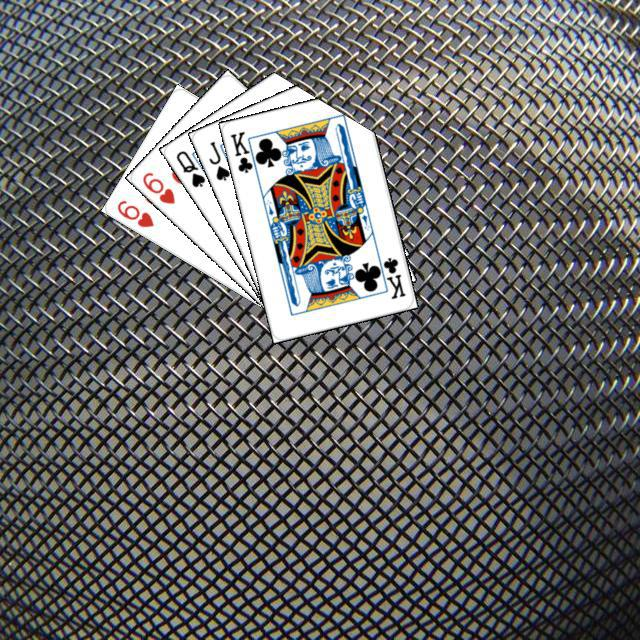6h: (137, 167, 177, 206), (112, 195, 155, 229)
Js: (204, 136, 232, 182)
Kc: (225, 126, 260, 177), (372, 251, 407, 300)
Qs: (171, 146, 207, 189)
